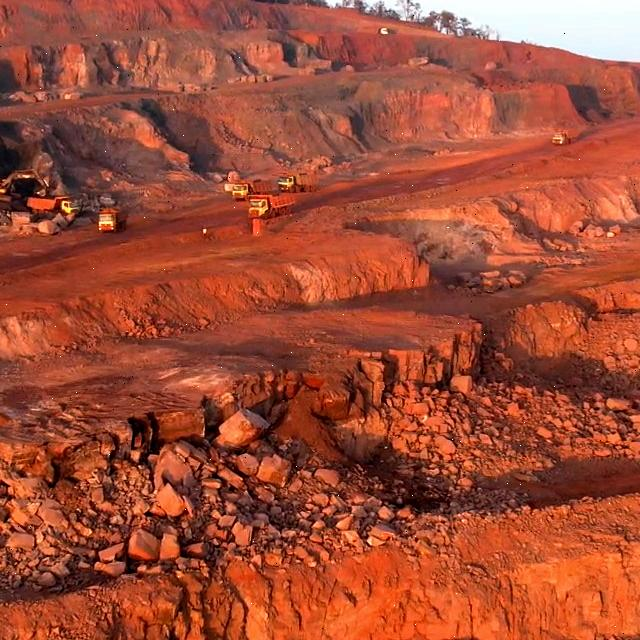Dumper truck: (95, 205, 131, 234), (250, 195, 290, 216), (278, 174, 311, 190), (232, 178, 253, 199), (551, 130, 576, 145)
Excavator: (0, 176, 19, 199)
